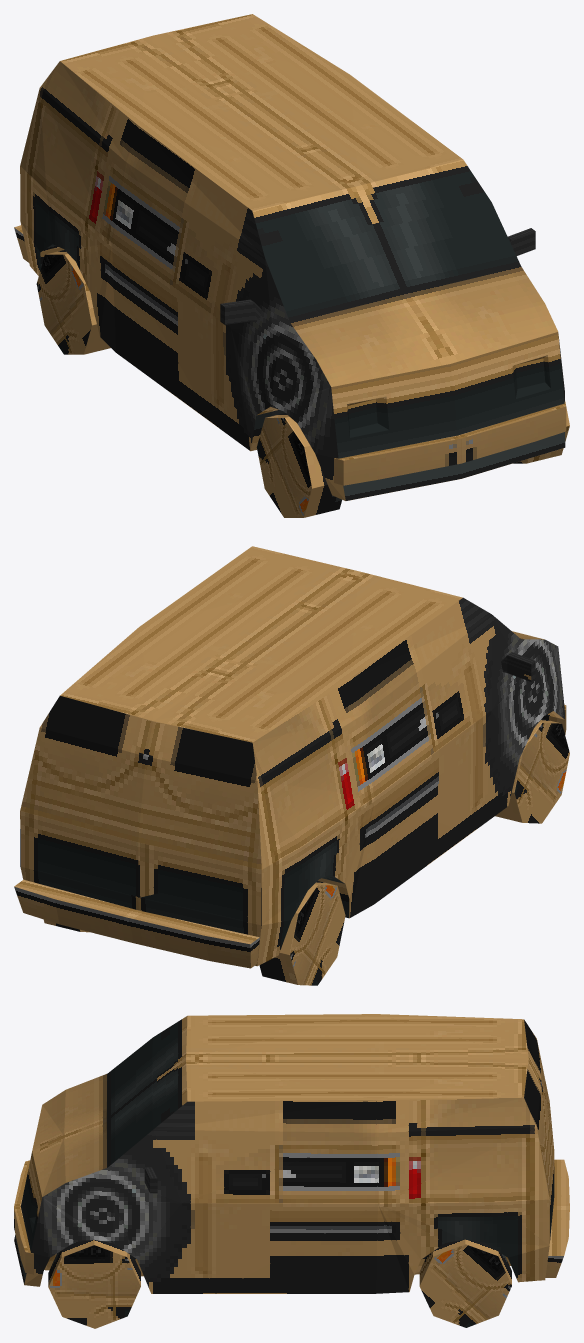
The model's file is car04_orange.glb.
The picture shows the model from 3 angles, top to bottom: view 1: azimuth 30°, elevation 25°; view 2: azimuth 150°, elevation 25°; view 3: azimuth 270°, elevation 25°; orthographic projection. The views are drawn at different scales.
Parts seen in each view (by area): view 1: car04_orange; view 2: car04_orange; view 3: car04_orange.
Part boxes in pixels (x1,y1,x2,y2): car04_orange: [14, 14, 569, 517]; car04_orange: [14, 546, 569, 985]; car04_orange: [14, 1014, 569, 1328].
Size of the model in its own units: 3.4 by 2.74 by 6.3.
Materials: 1 (1 with a texture image).
